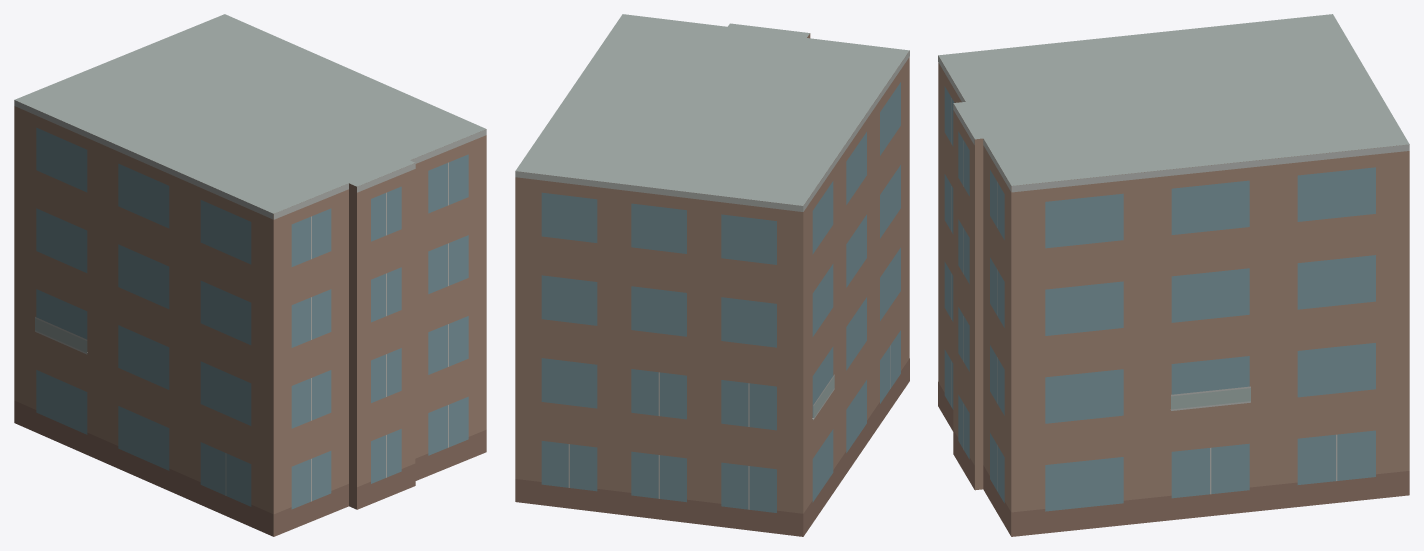
File: survey-upis-32812208.glb
3 renders of one model, left to right at view 1: azimuth 30°, elevation 25°; view 2: azimuth 150°, elevation 25°; view 3: azimuth 270°, elevation 25°, orthographic. The views are drawn at different scales.
Parts seen in each view (by area): view 1: survey-upis-32812208.tmp; view 2: survey-upis-32812208.tmp; view 3: survey-upis-32812208.tmp.
Boxes of the visible parts, <box> form: survey-upis-32812208.tmp: <box>14,14,486,536</box>; survey-upis-32812208.tmp: <box>515,14,909,536</box>; survey-upis-32812208.tmp: <box>938,14,1409,536</box>.
Bounding box in the file's own units: 13.88 × 13.2 × 16.09.
